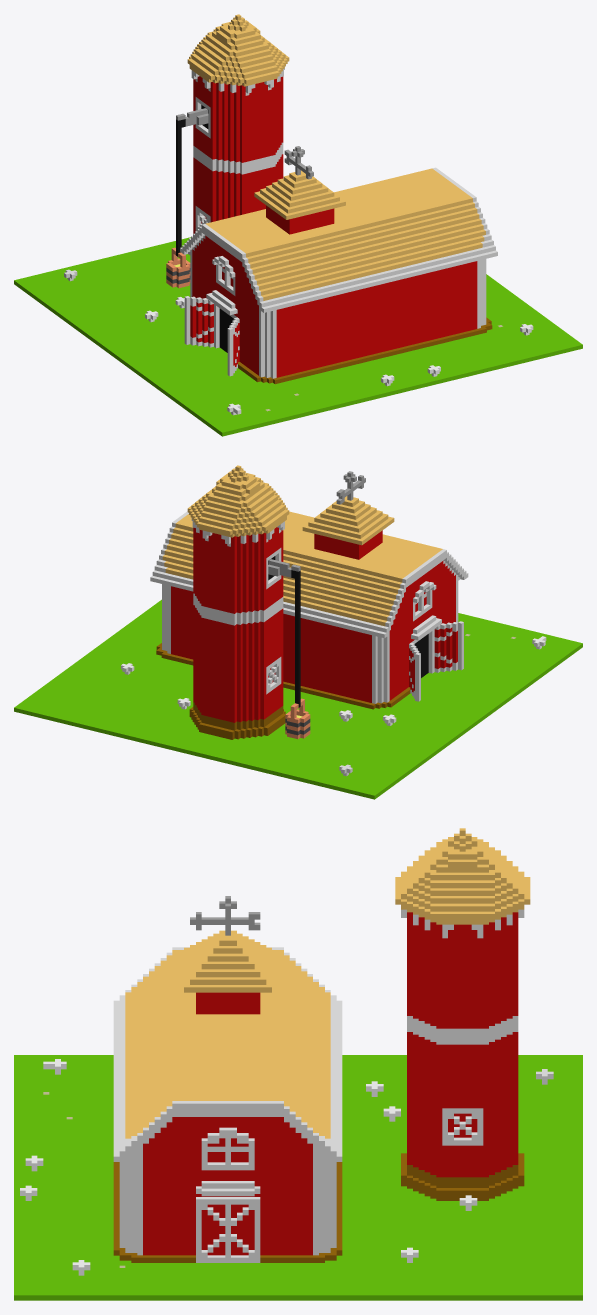
The model's file is Granero.glb.
The picture shows the model from 3 angles, top to bottom: view 1: azimuth 30°, elevation 25°; view 2: azimuth 150°, elevation 25°; view 3: azimuth 270°, elevation 25°; orthographic projection. The views are drawn at different scales.
Parts seen in each view (by area): view 1: _0; view 2: _0; view 3: _0.
Boxes of the visible parts, x1=… form: _0: x1=14, y1=14, x2=582, y2=436; _0: x1=14, y1=465, x2=582, y2=799; _0: x1=14, y1=828, x2=582, y2=1300.
Bounding box in the file's own units: 0.1455 × 0.099 × 0.1455.
